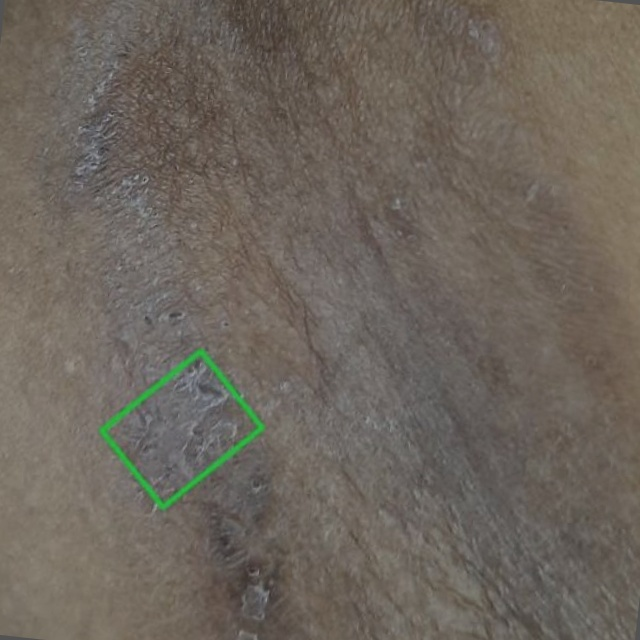Contact Dermatitis: (101, 351, 262, 507)
